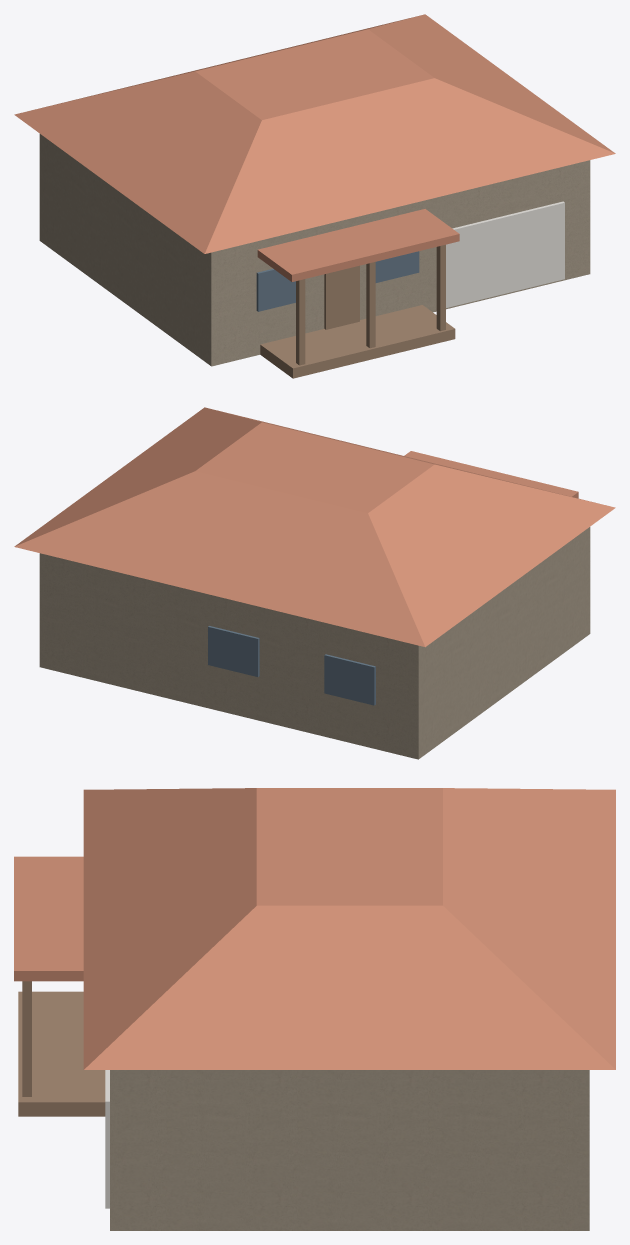
The model's file is building_bungalow.glb.
3 views of the same model, one above another, from view 1: azimuth 30°, elevation 25°; view 2: azimuth 150°, elevation 25°; view 3: azimuth 270°, elevation 25° (orthographic). The views are drawn at different scales.
Parts seen in each view (by area): view 1: BungalowRoot; view 2: BungalowRoot; view 3: BungalowRoot.
Boxes of the visible parts, x1,y1,x2,y2 form: BungalowRoot: (14,14,615,378); BungalowRoot: (14,407,615,759); BungalowRoot: (14,788,615,1230).
Size of the model in its own units: 15.2 by 6.45 by 13.8.
5 materials, 1 textured.
